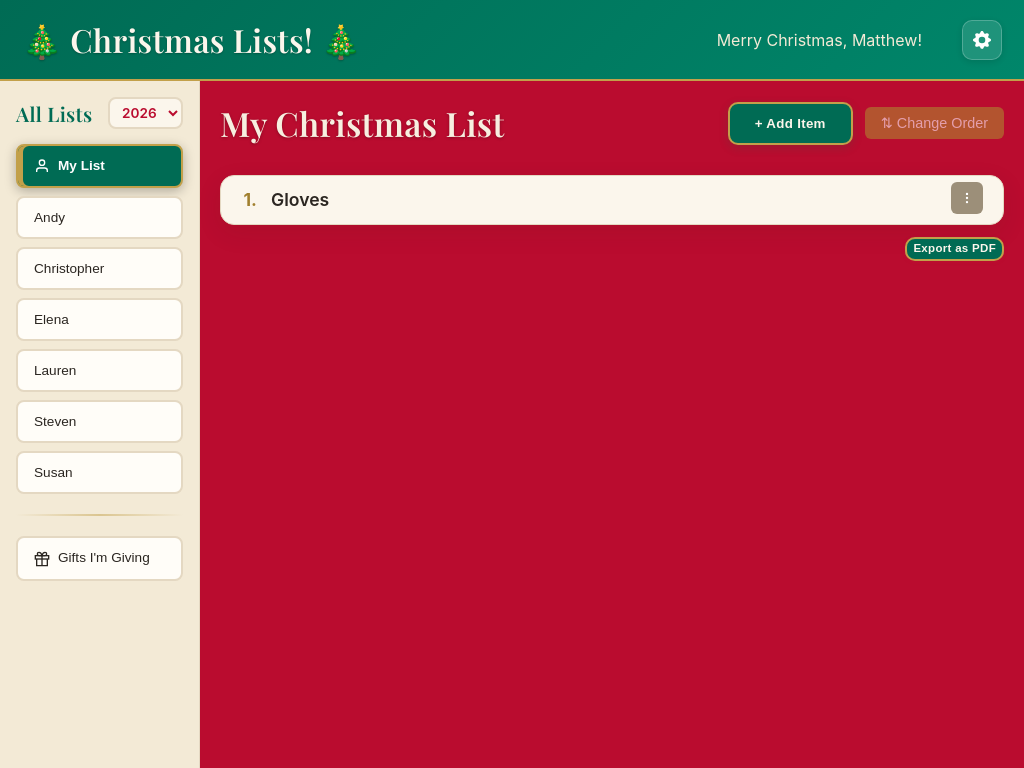
Scenario: an archived season is read-only › another person's items cannot be checked off
Expected: the heading "Gloves" is shown, [271,188,329,212]
Step 1. Select "2025" in the dropdown named "Christmas year" → x=146, y=113, box [108,97,183,129]
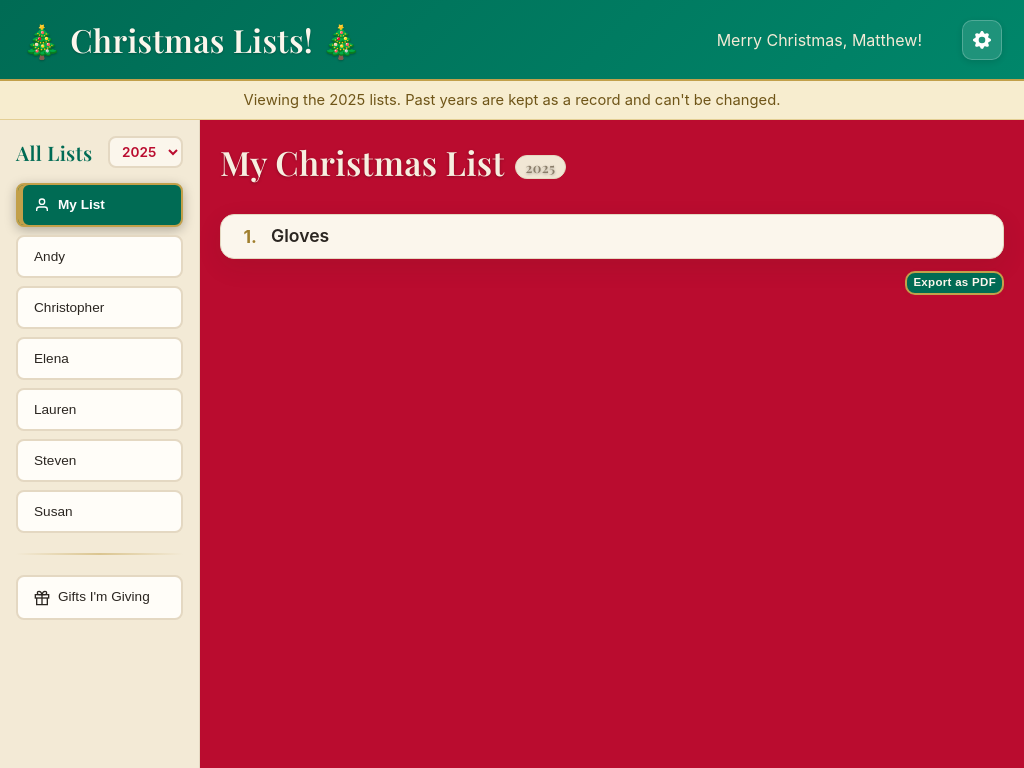
Step 2. Click the button "Andy" → x=100, y=257, box [16,235,183,278]
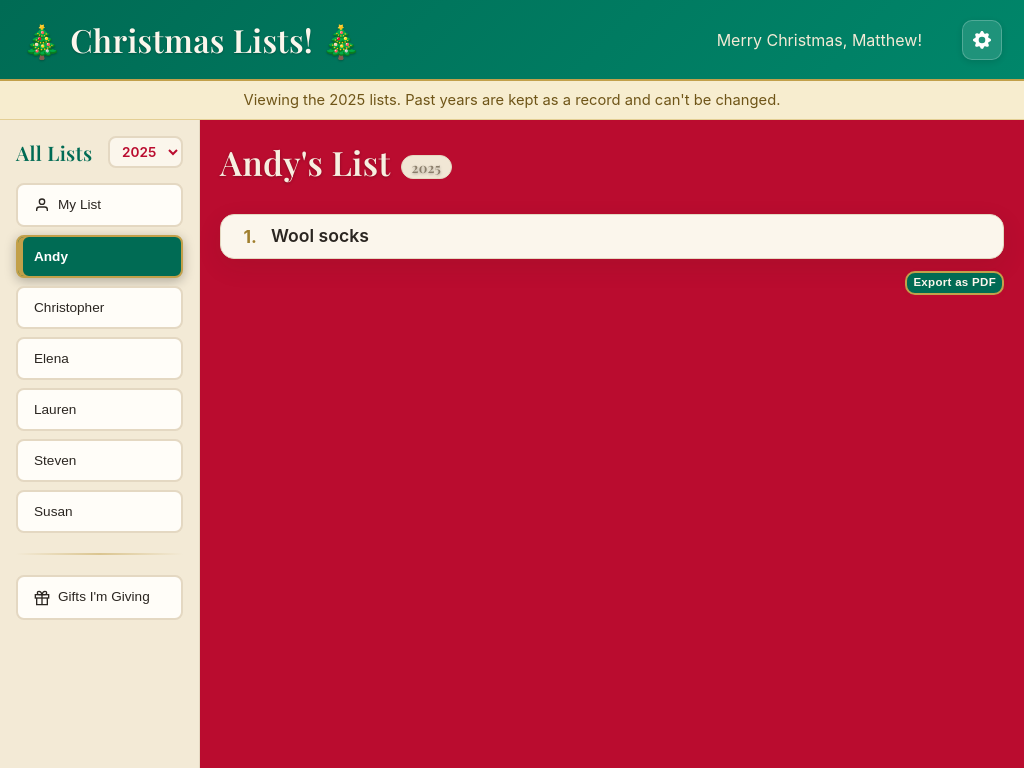
Expected: the heading "Wool socks" is shown, [271,224,369,248]
